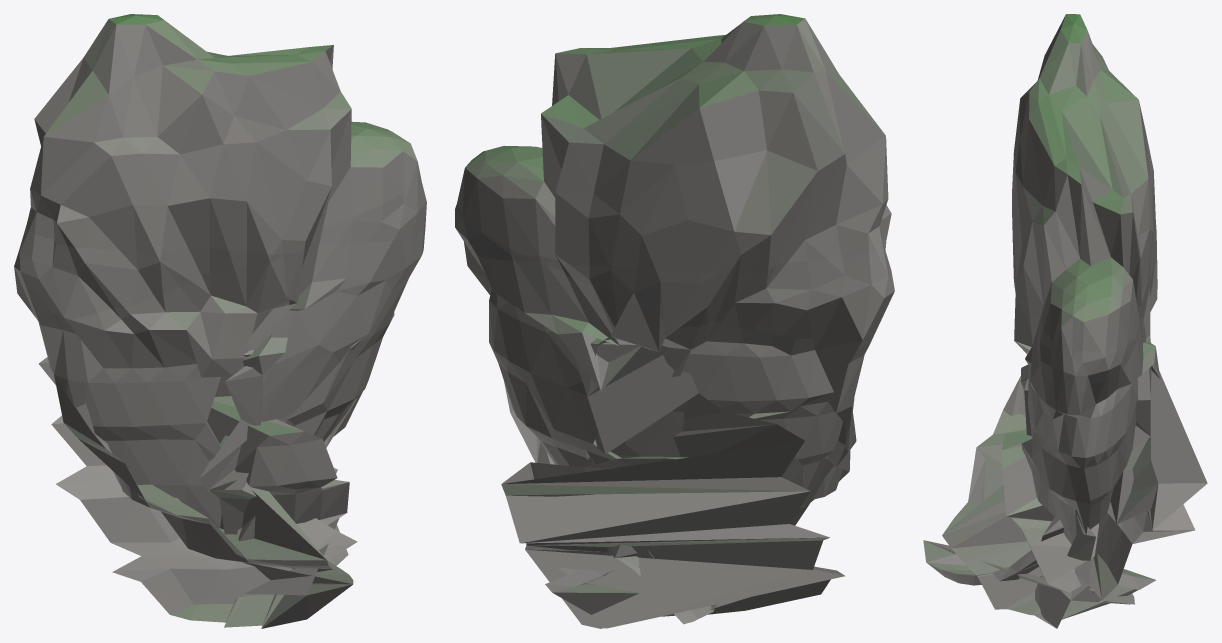
Rendered from Stein_2.fbx.
3 views of the same model, side by side, from view 1: azimuth 30°, elevation 25°; view 2: azimuth 150°, elevation 25°; view 3: azimuth 270°, elevation 25° (orthographic). The views are drawn at different scales.
Visible parts, largest first — view 1: Stein_2; view 2: Stein_2; view 3: Stein_2.
Boxes of the visible parts, <box> form: Stein_2: <box>14,14,426,628</box>; Stein_2: <box>455,14,894,628</box>; Stein_2: <box>923,14,1207,628</box>.
Size of the model in its own units: 0.4217 by 0.58 by 0.2894.
